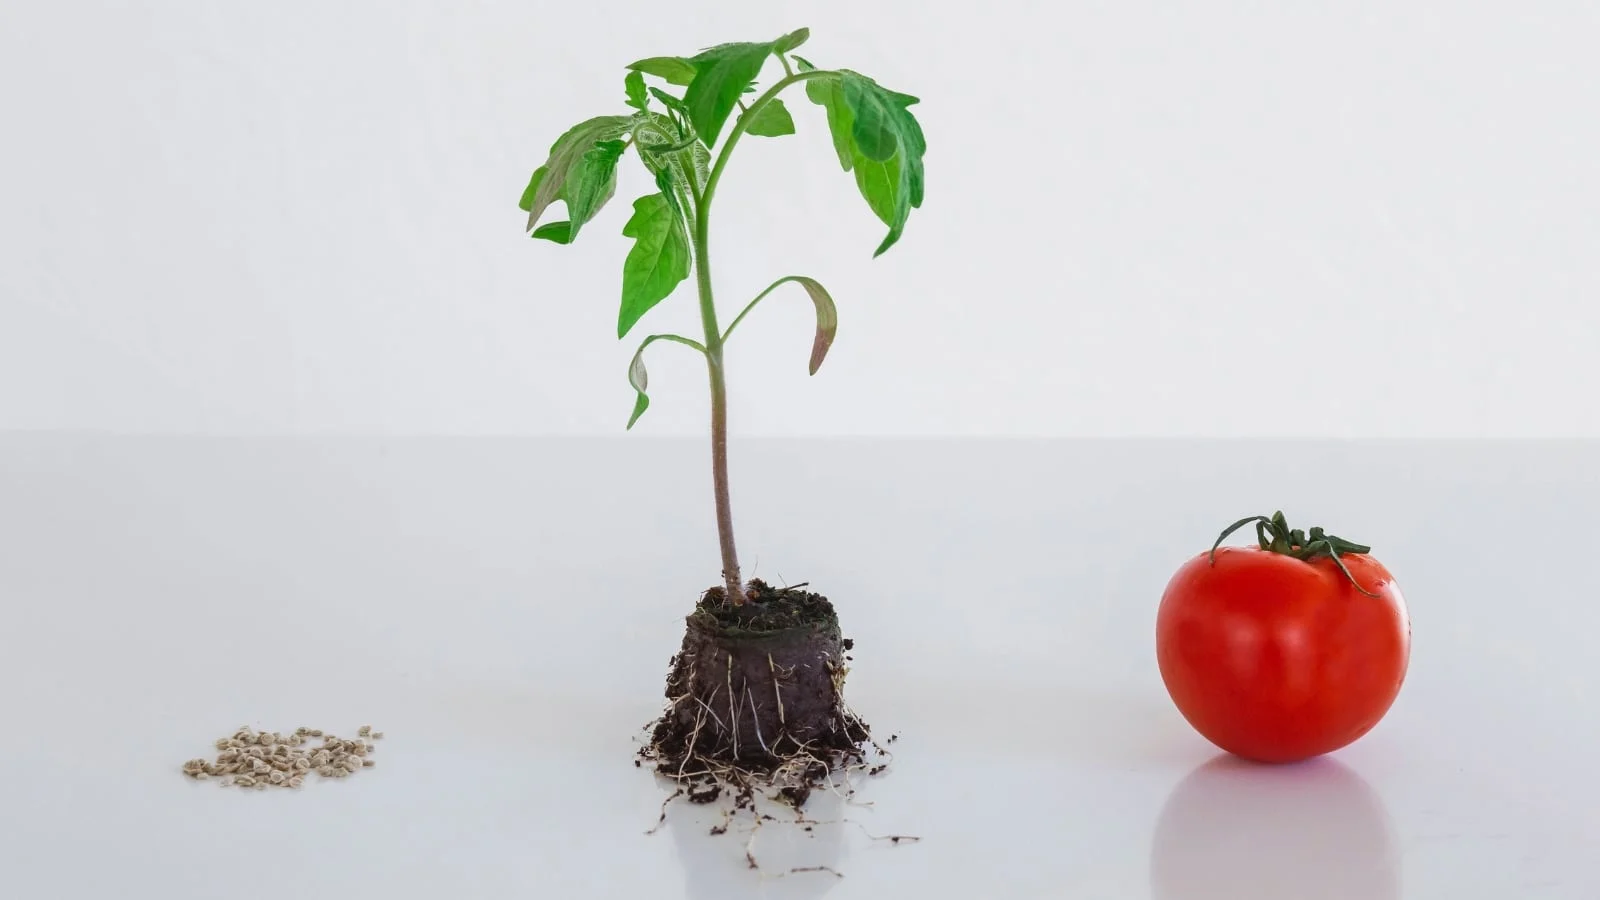tomato: (1151, 501, 1432, 795)
